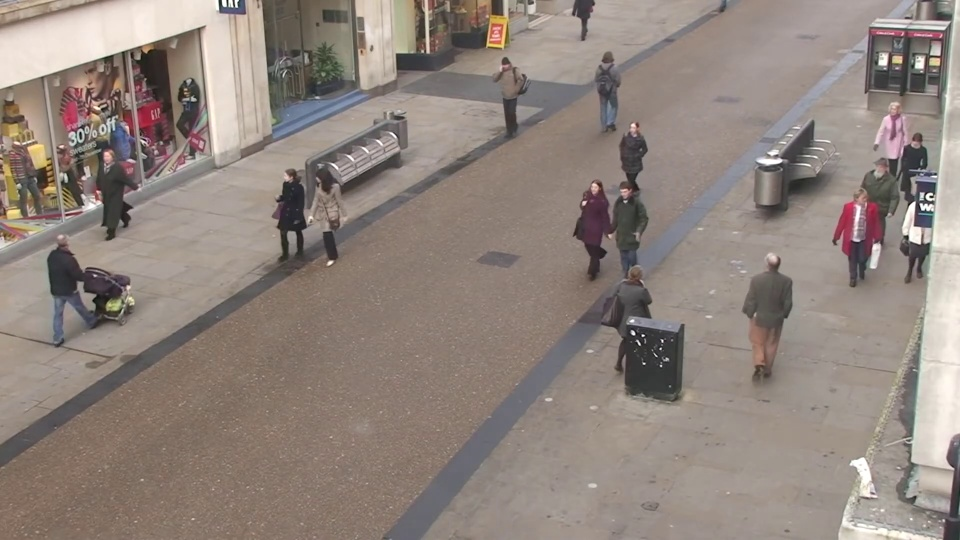pedestrian: (55, 221, 110, 342), (746, 240, 792, 369), (613, 257, 657, 391), (830, 187, 876, 303), (850, 156, 895, 264), (886, 131, 932, 234), (85, 147, 131, 248), (265, 168, 306, 276), (301, 168, 341, 277), (603, 183, 640, 298), (574, 177, 610, 291), (869, 101, 911, 196), (615, 117, 647, 214), (489, 58, 517, 138), (598, 48, 623, 125)
